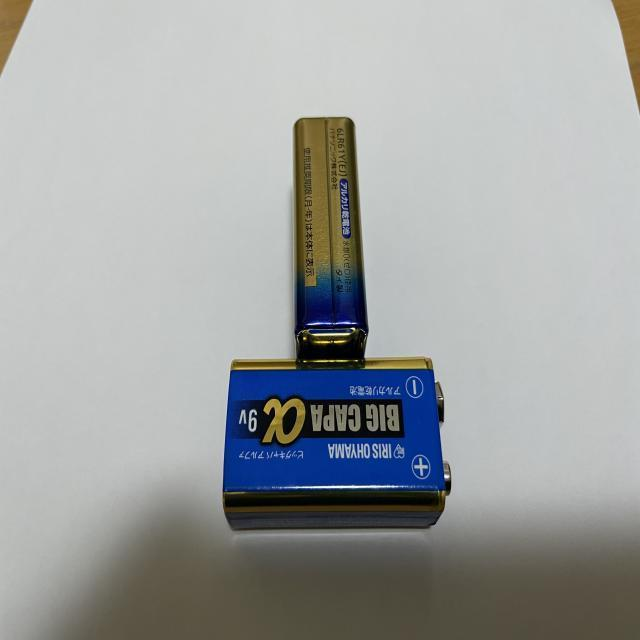9V: (223, 356, 451, 530), (291, 116, 370, 362)
